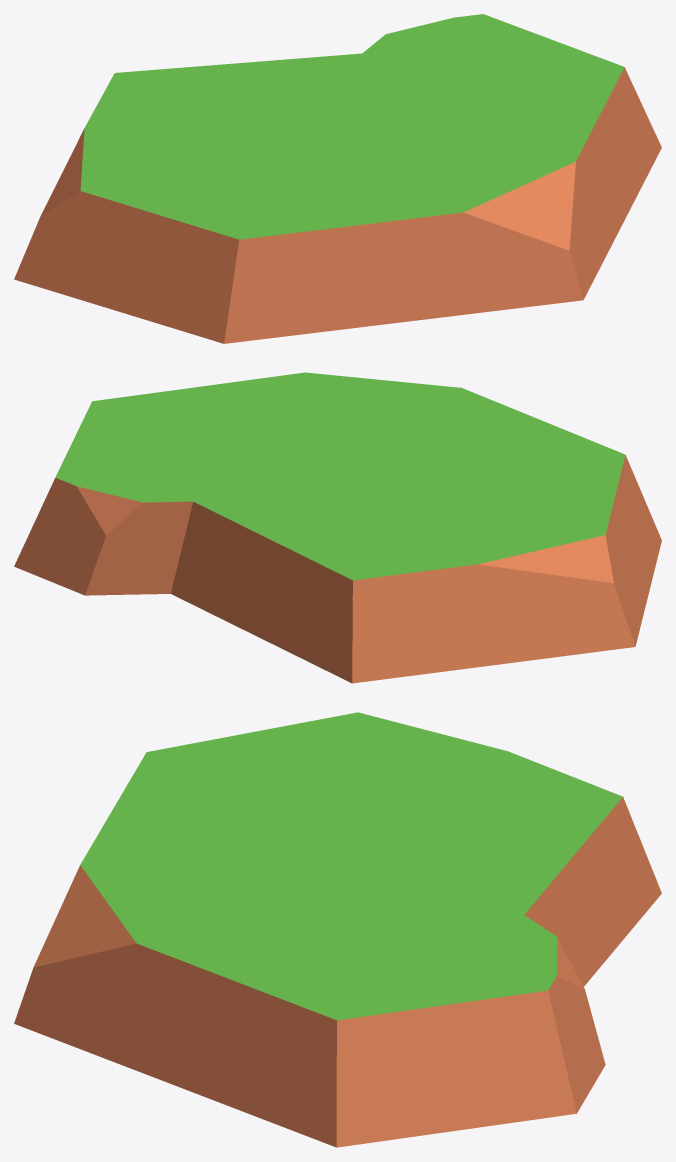
Rendered from rock_smallFlatC.glb.
3 renders of one model, top to bottom at view 1: azimuth 30°, elevation 25°; view 2: azimuth 150°, elevation 25°; view 3: azimuth 270°, elevation 25°, orthographic. The views are drawn at different scales.
Visible parts, largest first — view 1: rock_smallFlatC; view 2: rock_smallFlatC; view 3: rock_smallFlatC.
Boxes of the visible parts, box(x1,y1,x2,y2) form: rock_smallFlatC: box(14, 14, 661, 343); rock_smallFlatC: box(14, 372, 661, 683); rock_smallFlatC: box(14, 712, 661, 1147).
Size of the model in its own units: 0.4704 by 0.0649 by 0.3603.
